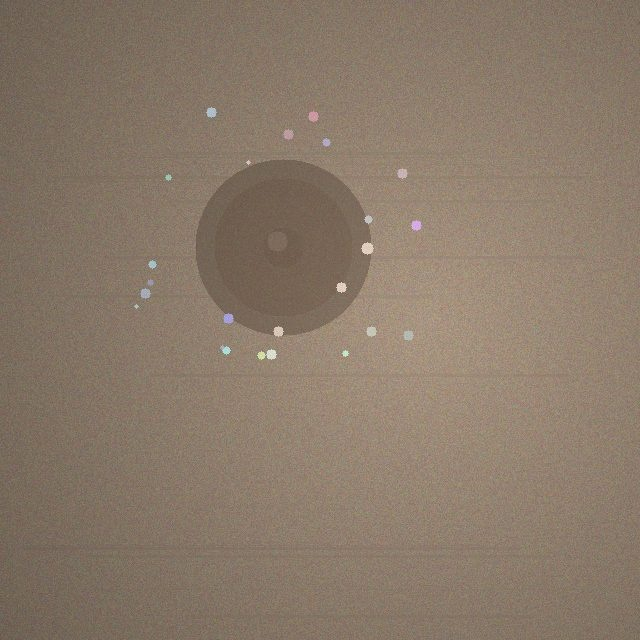overburn: (195, 159, 371, 335)
